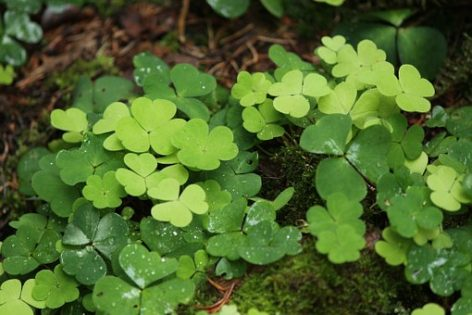oxalis: (61, 56, 458, 311)
